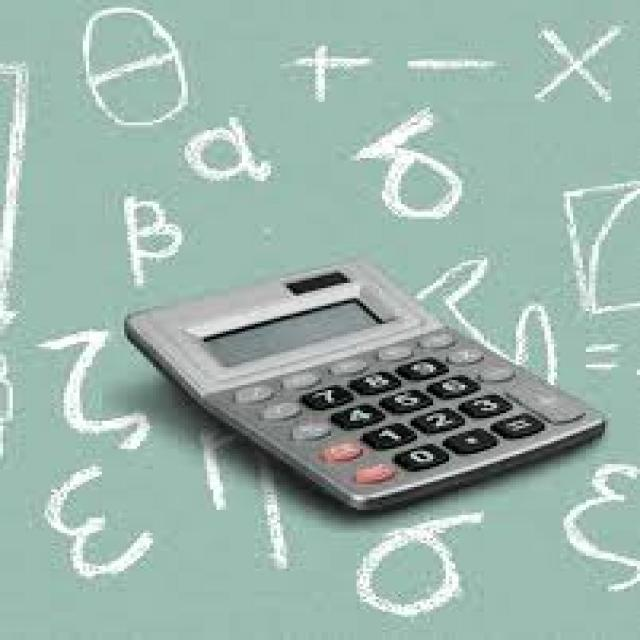Calculator: (120, 255, 612, 512)
